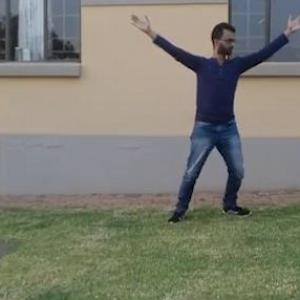takeoff: (136, 12, 300, 215)
